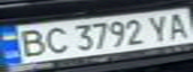2: (124, 16, 148, 46)
3: (69, 21, 93, 52)
7: (90, 19, 112, 51)
9: (106, 17, 130, 48)
A: (163, 10, 193, 40)
B: (12, 26, 51, 59)
C: (39, 25, 72, 55)
Y: (142, 12, 175, 43)
